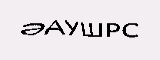Ж: (77, 17, 102, 39)
Н: (47, 18, 62, 39)
Х: (60, 15, 78, 40)
Э: (37, 19, 49, 38)
Я: (103, 18, 124, 41)
